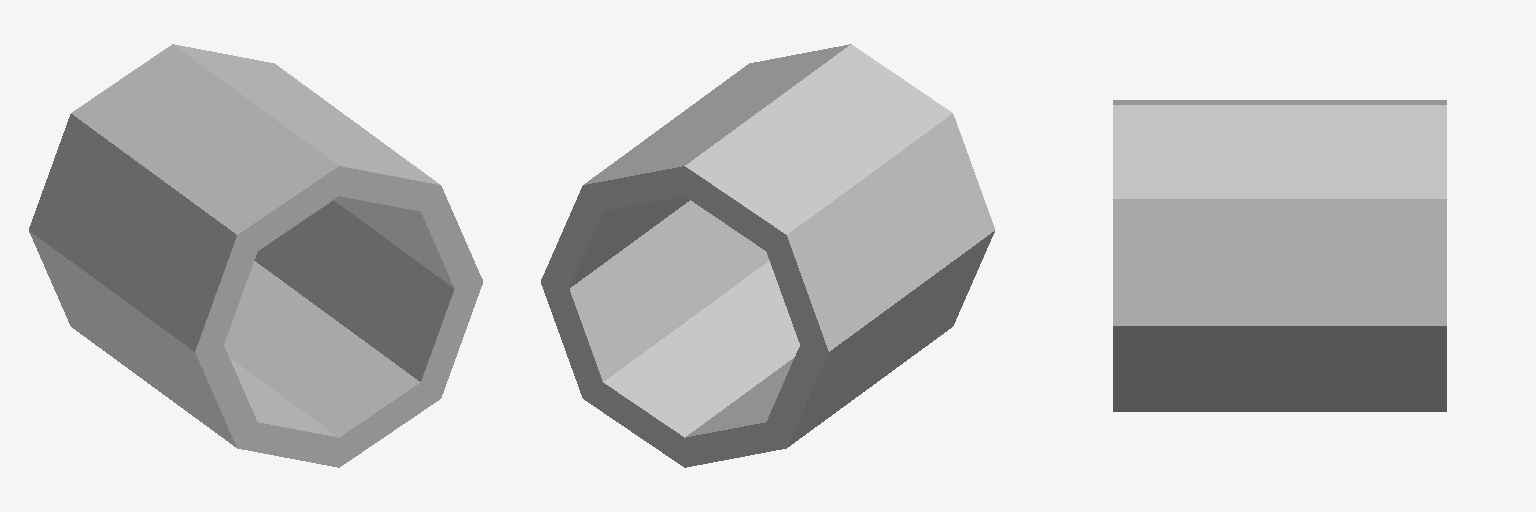
The model's file is section.obj.
3 renders of one model, left to right at view 1: azimuth 30°, elevation 25°; view 2: azimuth 150°, elevation 25°; view 3: azimuth 270°, elevation 25°, orthographic.
Parts seen in each view (by area): view 1: Cylinder_Cylinder.002; view 2: Cylinder_Cylinder.002; view 3: Cylinder_Cylinder.002.
Boxes of the visible parts, box(x1,y1,x2,y2) form: Cylinder_Cylinder.002: box(29, 44, 482, 467); Cylinder_Cylinder.002: box(541, 44, 994, 467); Cylinder_Cylinder.002: box(1113, 100, 1446, 411).
Bounding box in the file's own units: 10 × 10 × 10.